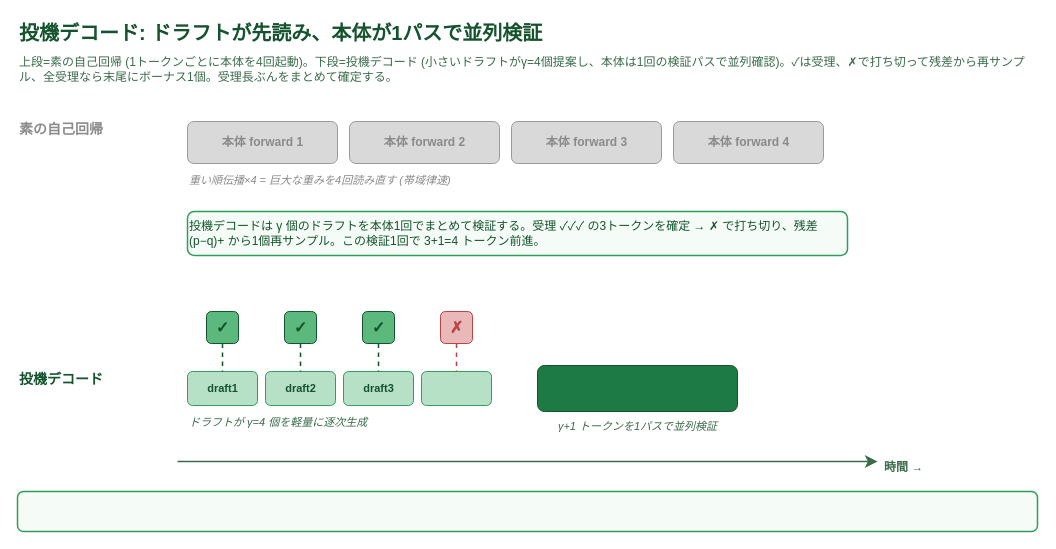
The diagram is 1056 pixels wide and 549 high, and some of its shapes have lost their labels. Each missing label, with the box of its shape:
draft4: (420, 370, 492, 406)
本体 検証 forward ×1: (536, 364, 738, 412)
要点: 同じ「本体1回」あたりの確定トークン数を τ=期待受理長ぶん増やす。分布は棄却サンプリングで p のまま (次図)。: (16, 490, 1038, 532)
